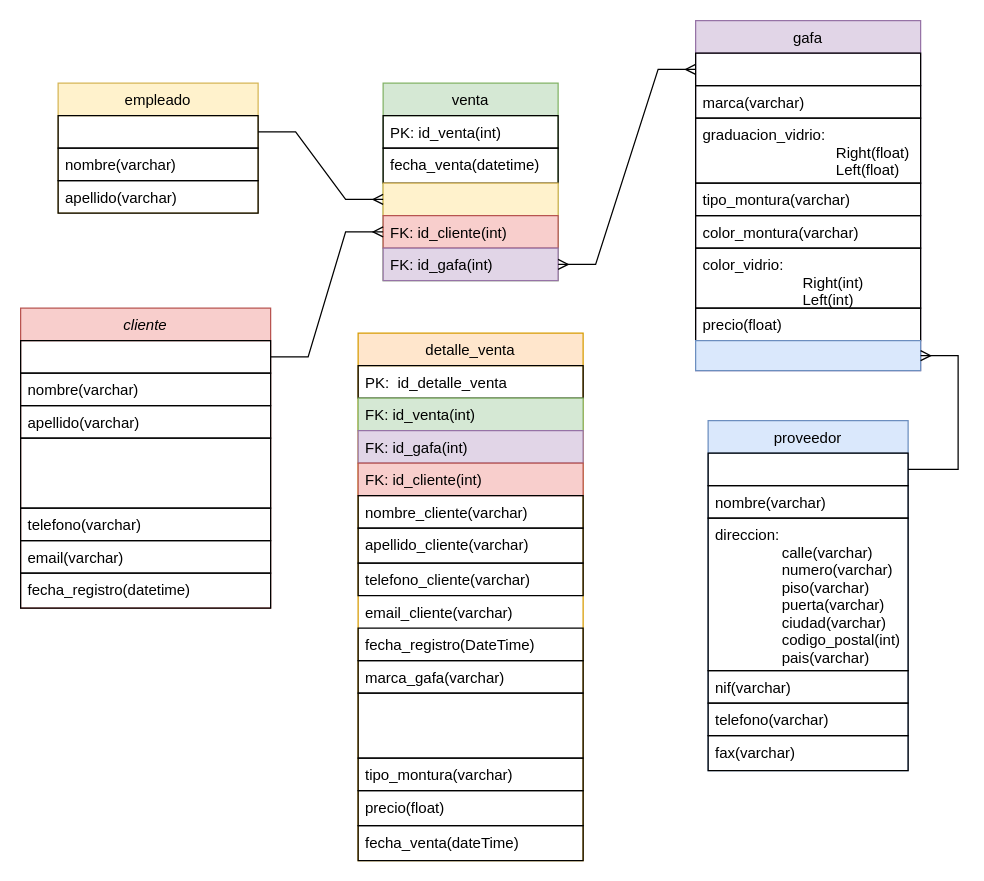
Image size: 984x881. Some labels were removed from this diagram. The box of each missing label's shape, as (x1, y1, x2, y2) in pixels:
direccion_postal: calle(varchar) numero(varchar): (19, 437, 271, 508)
FK: id_empleado(int): (382, 182, 558, 216)
graduacion_vidrio: Right (float) Left (float): (357, 692, 583, 758)
id_proveedor(int): (694, 339, 921, 371)
PK: id_cliente(int): (19, 339, 271, 373)
PK: id_empleado(int): (57, 114, 258, 148)
PK: id_gafa(int): (694, 52, 921, 86)
PK: id_proveedor(int): (707, 452, 908, 486)
